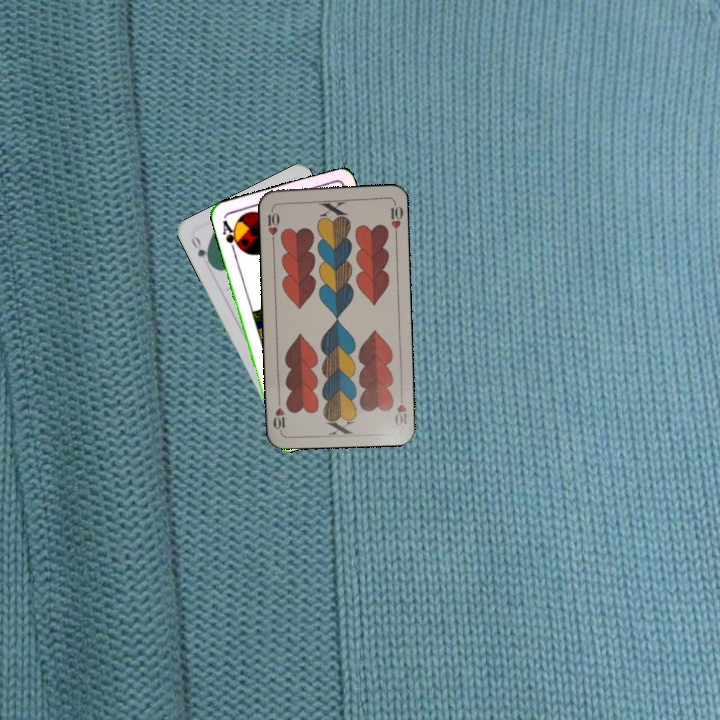GO: (187, 231, 214, 268)
H10: (390, 388, 410, 428), (263, 204, 282, 244)
SA: (218, 216, 243, 255)
